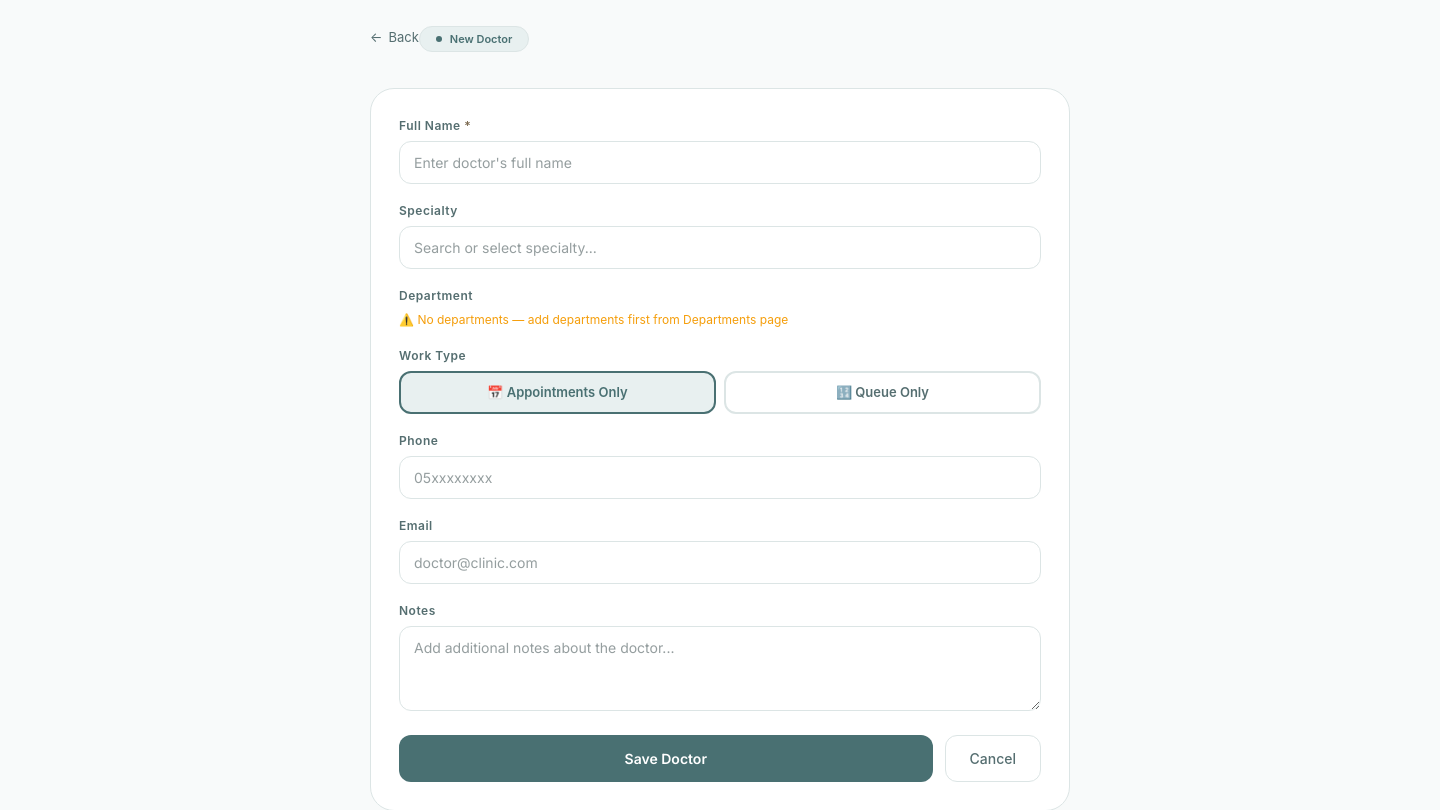
AddDoctor › shows the server error message when creating the doctor fails
Type "Dr. Ali" into the field with placeholder "Enter doctor's full name" at x=720, y=162, box [399, 140, 1041, 184]
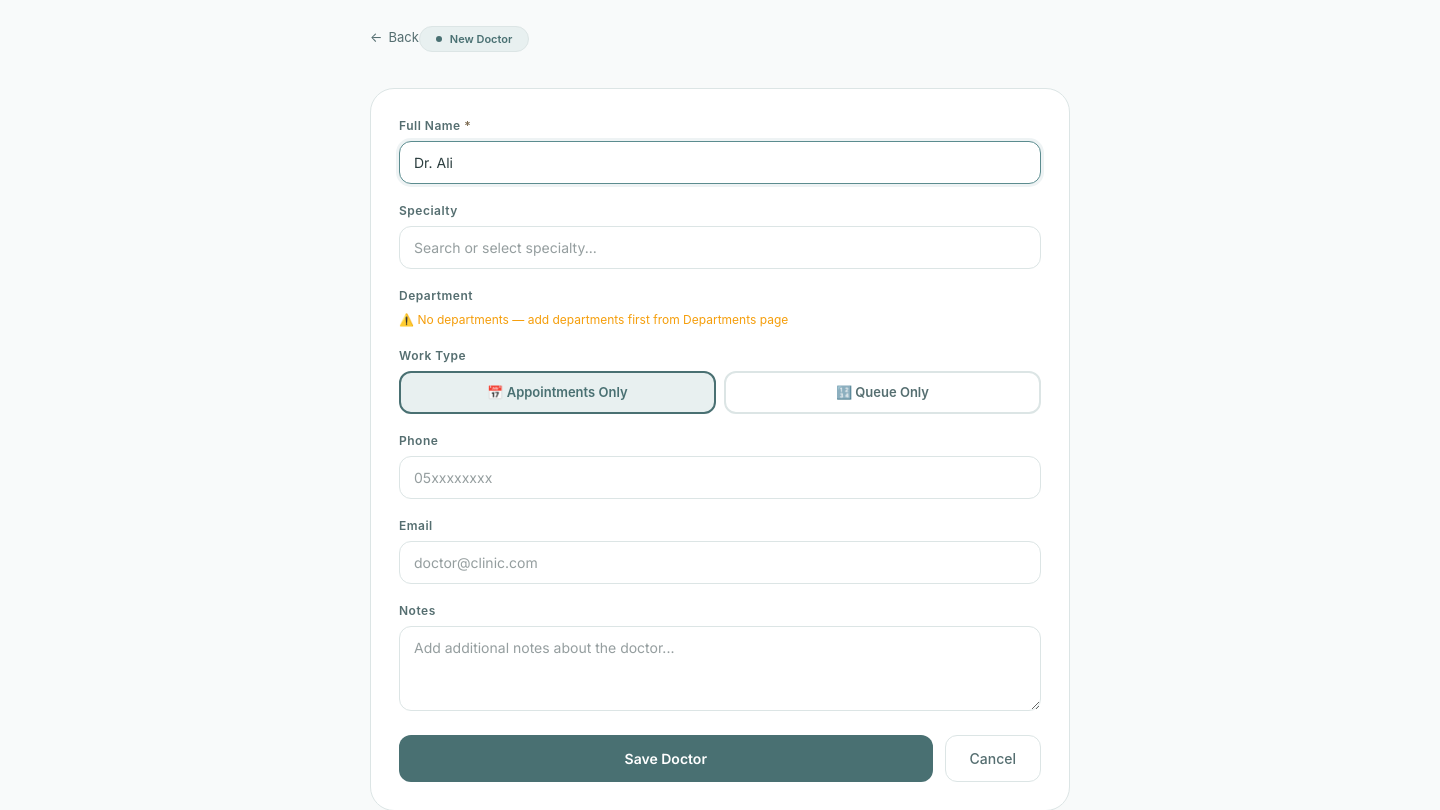
Click the button "Save Doctor" at x=666, y=758, box [399, 735, 932, 782]
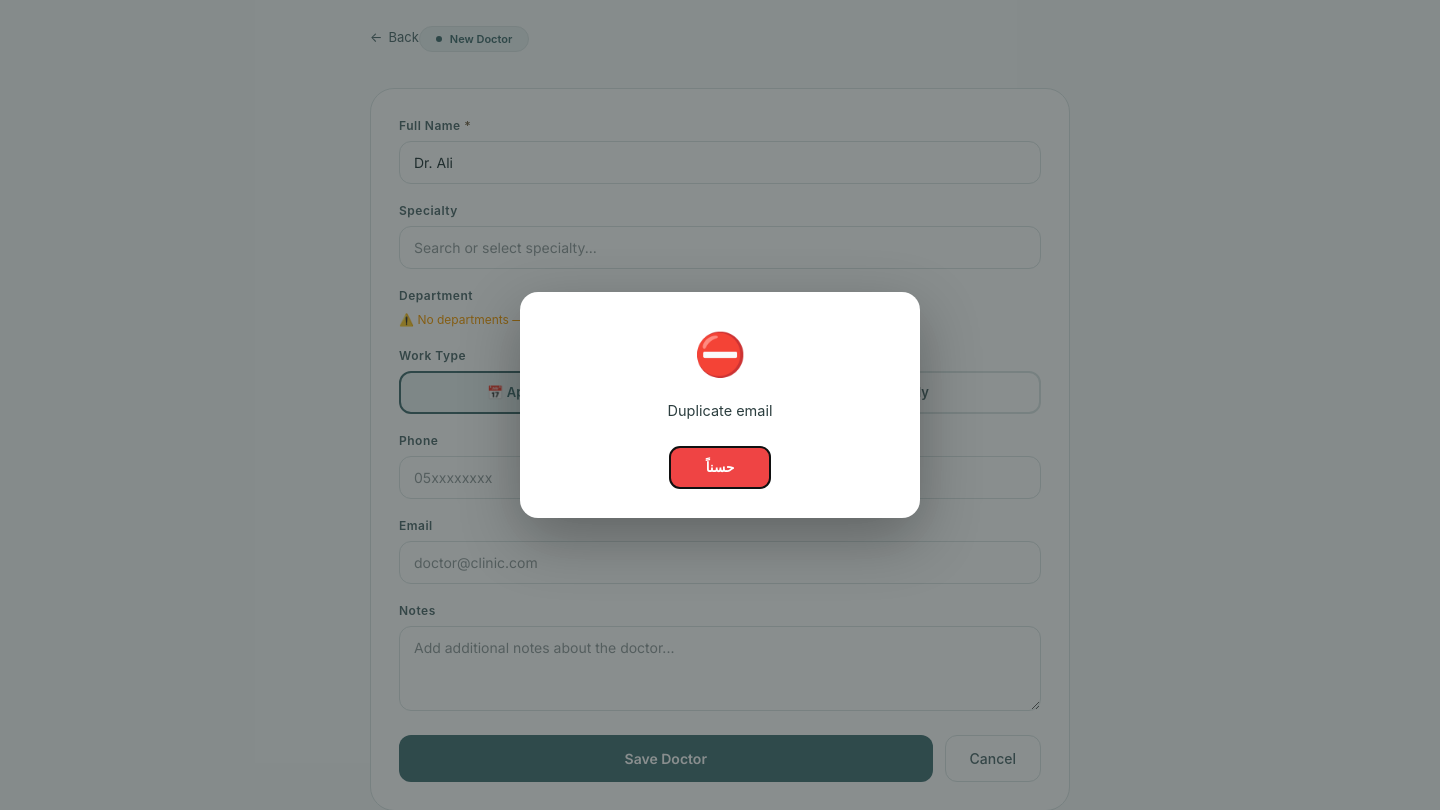
Expected: the text "Duplicate email" is shown, [668, 402, 772, 419]
